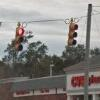Traffic light: (62, 15, 85, 50)
